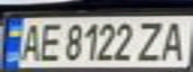1: (81, 20, 100, 61)
2: (112, 19, 139, 63), (97, 19, 118, 62)
8: (63, 20, 84, 62)
A: (157, 18, 193, 62), (15, 20, 45, 62)
E: (36, 20, 63, 63)
Z: (136, 18, 166, 63)
